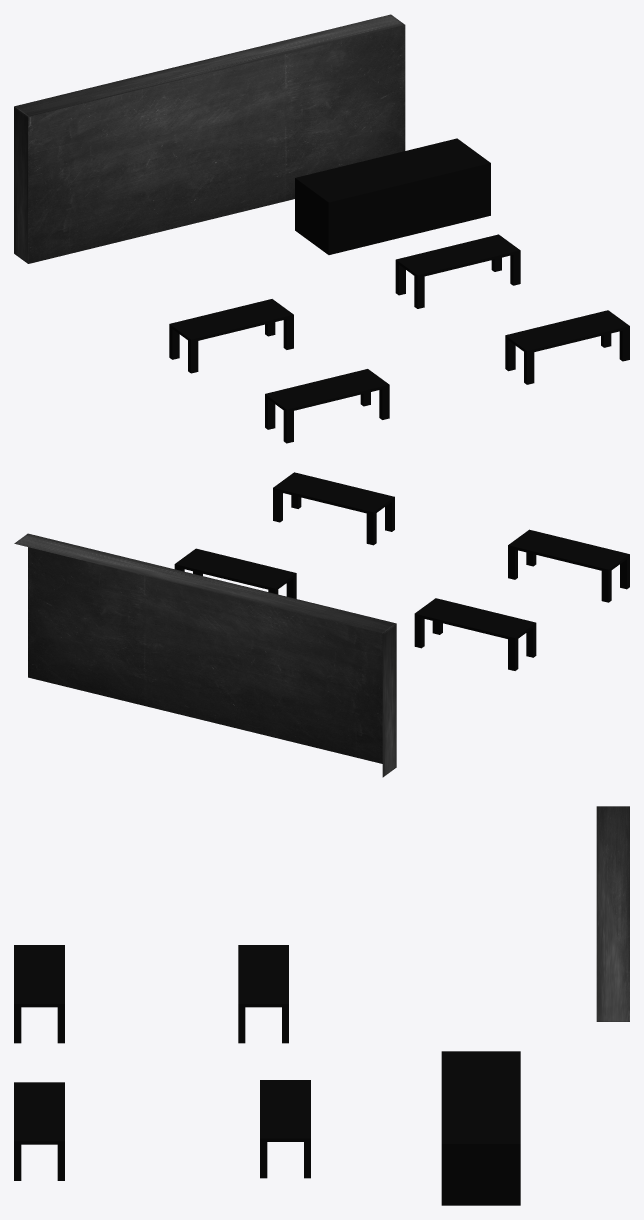
File: sala03.obj
3 renders of one model, top to bottom at view 1: azimuth 30°, elevation 25°; view 2: azimuth 150°, elevation 25°; view 3: azimuth 270°, elevation 25°, orthographic. The views are drawn at different scales.
Parts seen in each view (by area): view 1: piazarra, Muebles; view 2: piazarra, Muebles; view 3: Muebles, piazarra.
Part boxes in pixels (bbox=[...]): piazarra: bbox=[14, 14, 405, 263]; Muebles: bbox=[169, 138, 629, 443]; piazarra: bbox=[14, 533, 396, 777]; Muebles: bbox=[174, 472, 629, 670]; Muebles: bbox=[14, 945, 520, 1205]; piazarra: bbox=[596, 806, 629, 1021].
Size of the model in its own units: 122 by 43.14 by 140.
